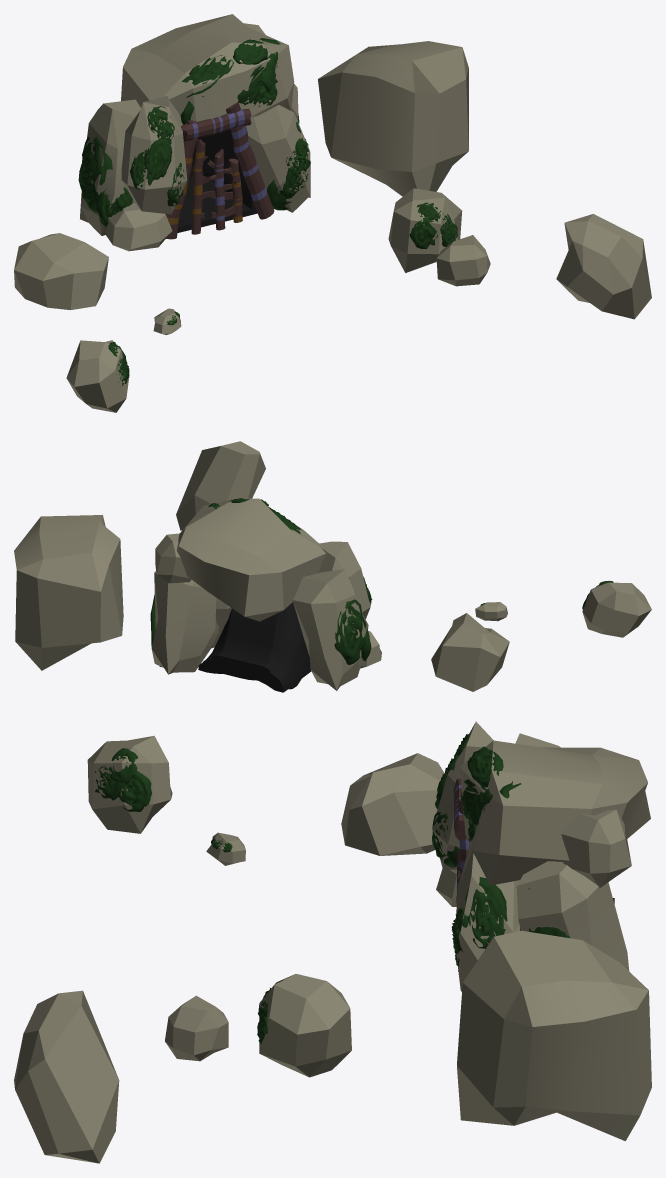
Rendered from mine entrance.fbx.
3 renders of one model, top to bottom at view 1: azimuth 30°, elevation 25°; view 2: azimuth 150°, elevation 25°; view 3: azimuth 270°, elevation 25°, orthographic. The views are drawn at different scales.
Visible parts, largest first — view 1: pCube14, pCube5, pCube13, pCube12, pCube3, pCube4, pCube11, pCube6, pCube15, entrance, gate_model, pCube2 (+11 smaller); view 2: pCube14, pCube5, entrance, pCube6, pCube7, pCube13, pCube12, pCube15, pCube3, pSphere21, pCube8, pCube9 (+1 smaller); view 3: pCube14, pCube5, pCube13, pCube12, pCube11, pCube7, pCube15, pCube8, pCube10, pCube4, pCube3, pSphere15 (+4 smaller).
Boxes of the visible parts, box(x1,y1,x2,y2) form: pCube14: box(318, 41, 468, 196); pCube5: box(121, 14, 294, 124); pCube13: box(556, 214, 651, 319); pCube12: box(14, 233, 108, 310); pCube3: box(121, 96, 187, 214); pCube4: box(246, 105, 310, 212); pCube11: box(388, 188, 462, 272); pCube6: box(80, 99, 140, 235); pCube15: box(66, 340, 129, 412); entrance: box(177, 129, 257, 232); gate_model: box(191, 139, 242, 234); pCube2: box(106, 202, 172, 251); pCube14: box(14, 515, 123, 670); pCube5: box(176, 498, 326, 621); entrance: box(198, 602, 311, 692); pCube6: box(292, 569, 368, 690); pCube7: box(151, 571, 219, 674); pCube13: box(176, 441, 265, 530); pCube12: box(431, 613, 509, 691); pCube15: box(582, 582, 651, 637); pCube3: box(317, 541, 370, 619); pSphere21: box(334, 599, 366, 664); pCube8: box(155, 533, 191, 583); pCube9: box(475, 602, 507, 621); pCube14: box(457, 930, 651, 1141); pCube5: box(460, 740, 650, 885); pCube13: box(14, 990, 119, 1163); pCube12: box(341, 753, 444, 855); pCube11: box(259, 974, 351, 1077); pCube7: box(516, 861, 629, 970); pCube15: box(87, 735, 172, 833); pCube8: box(561, 809, 631, 887); pCube10: box(165, 995, 228, 1061); pCube4: box(456, 845, 519, 991); pCube3: box(432, 721, 493, 869); pSphere15: box(465, 877, 507, 948).
Bounding box in the file's own units: 166 × 60.01 × 127.
